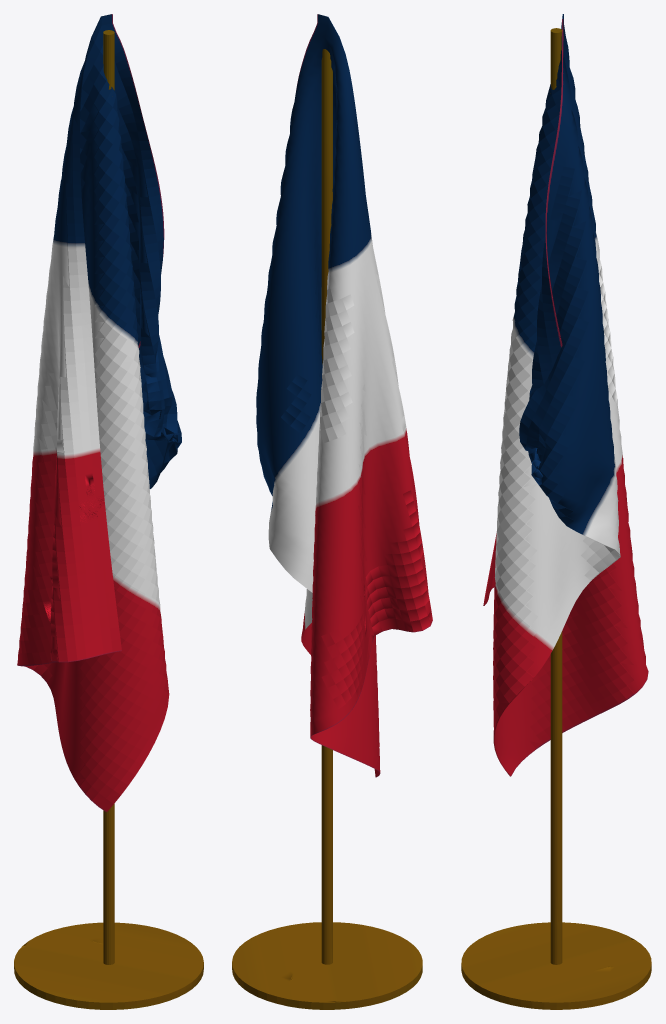
The model's file is officeflag.obj.
3 views of the same model, side by side, from view 1: azimuth 30°, elevation 25°; view 2: azimuth 150°, elevation 25°; view 3: azimuth 270°, elevation 25° (orthographic).
Parts seen in each view (by area): view 1: 1_flag_obj.002_1_flag_obj.002; view 2: 1_flag_obj.002_1_flag_obj.002; view 3: 1_flag_obj.002_1_flag_obj.002.
Boxes of the visible parts, x1,y1,x2,y2 form: 1_flag_obj.002_1_flag_obj.002: (14,14,203,1009); 1_flag_obj.002_1_flag_obj.002: (232,14,432,1009); 1_flag_obj.002_1_flag_obj.002: (461,14,651,1009).
Size of the model in its own units: 0.4038 by 2.24 by 0.4041.
Materials: 2 (2 with a texture image).
